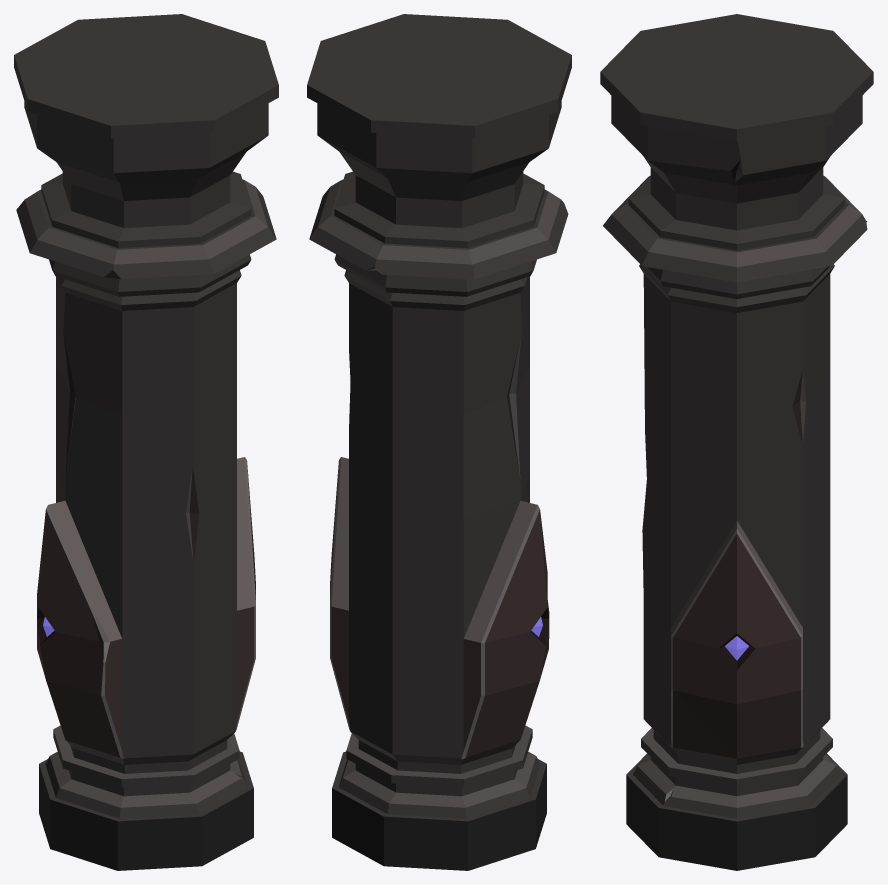
The model's file is Pillar_Cylinder_01.glb.
3 views of the same model, side by side, from view 1: azimuth 30°, elevation 25°; view 2: azimuth 150°, elevation 25°; view 3: azimuth 270°, elevation 25° (orthographic).
Parts seen in each view (by area): view 1: Pillar_Cylinder_01; view 2: Pillar_Cylinder_01; view 3: Pillar_Cylinder_01.
Part boxes in pixels (x1,y1,x2,y2): Pillar_Cylinder_01: (14,14,278,870); Pillar_Cylinder_01: (307,14,571,870); Pillar_Cylinder_01: (600,14,873,870).
Size of what is drawn, in the model's own units: 1.32 by 4 by 1.32.
2 materials, 2 textured.
